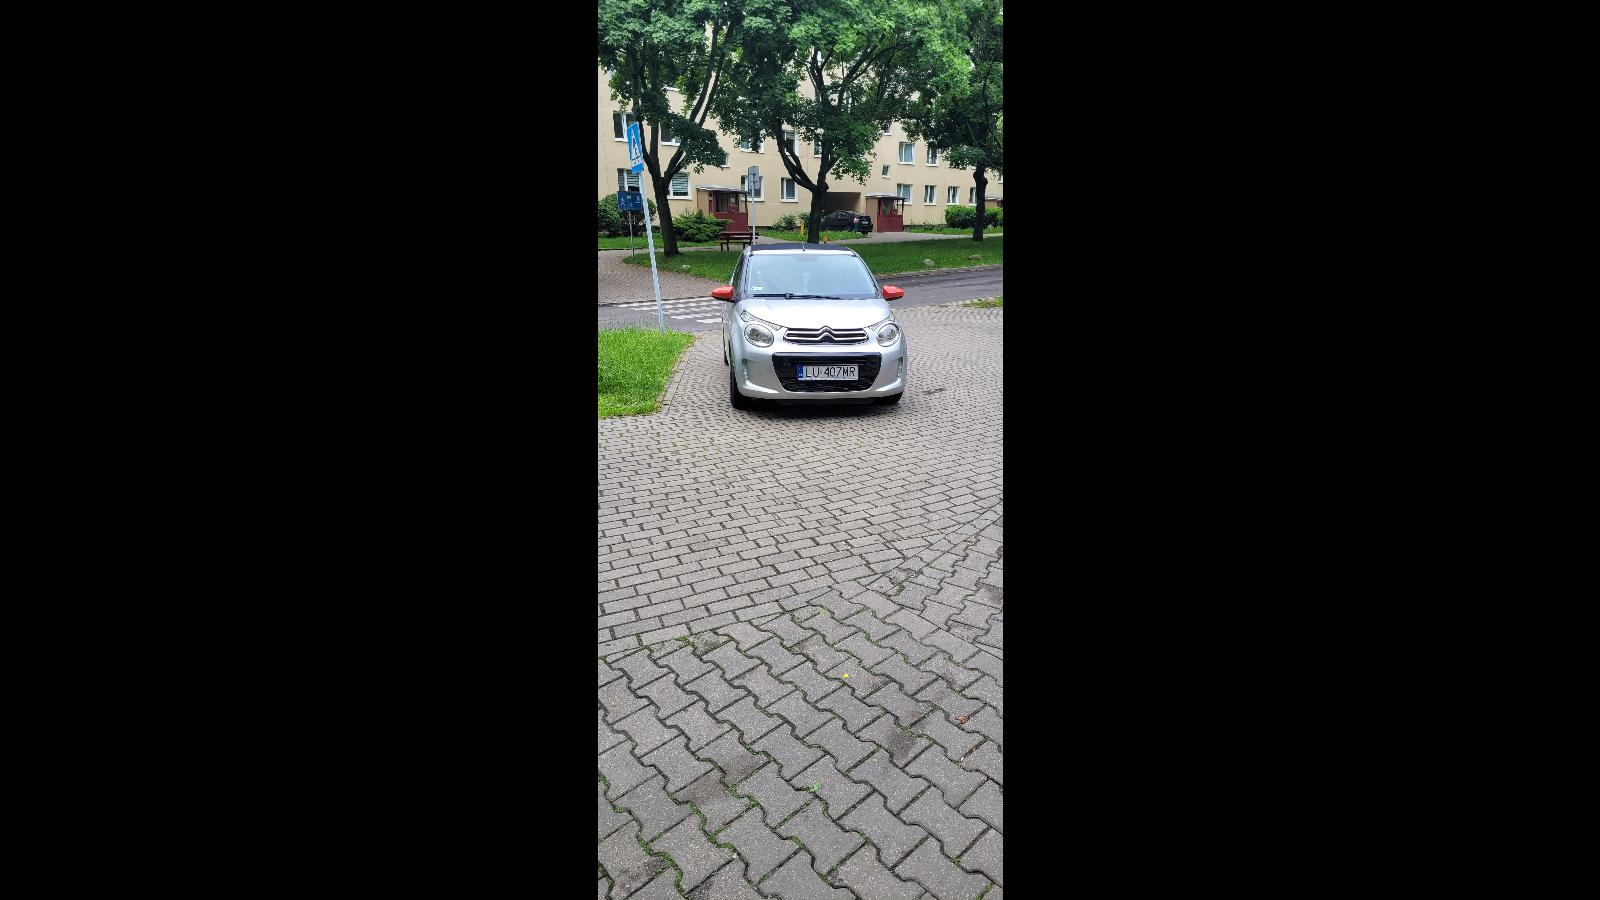plates: (796, 364, 859, 382)
